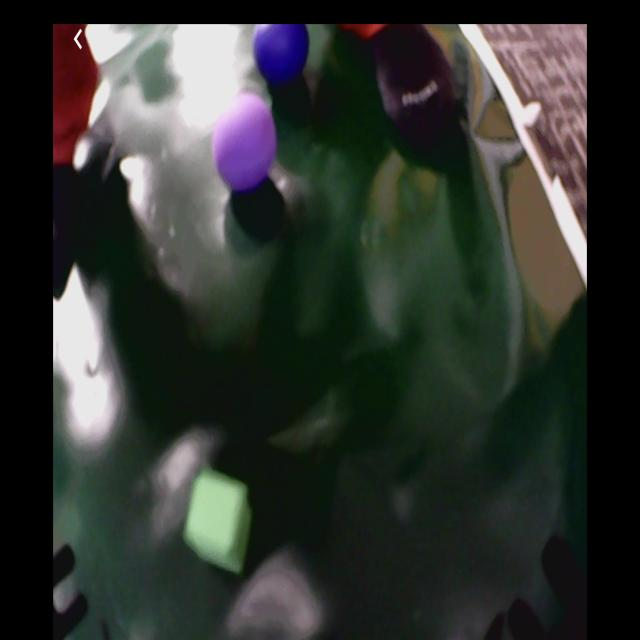ball: (214, 97, 278, 195), (256, 25, 311, 86)
